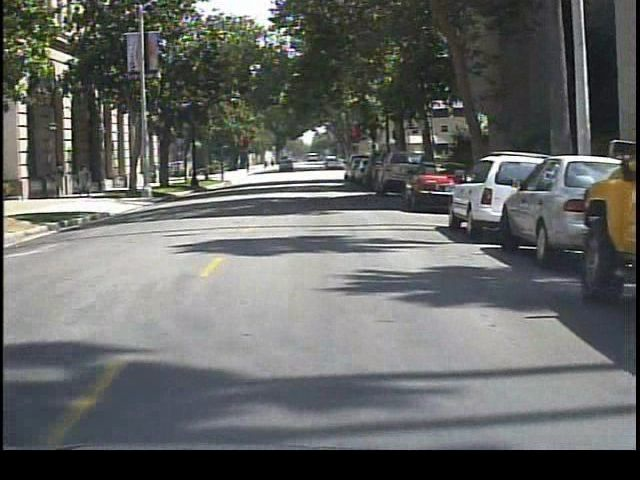person: (76, 160, 99, 199), (51, 154, 72, 196)
